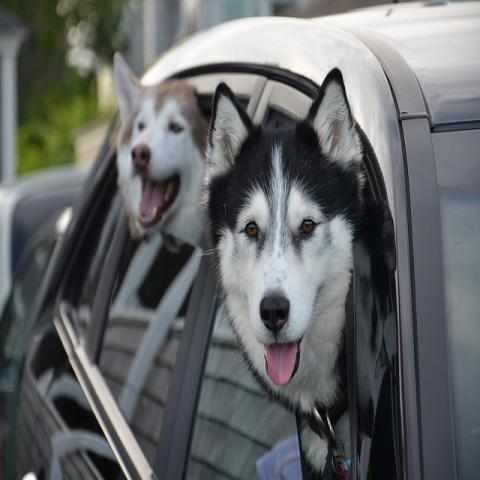car: (8, 1, 480, 479)
